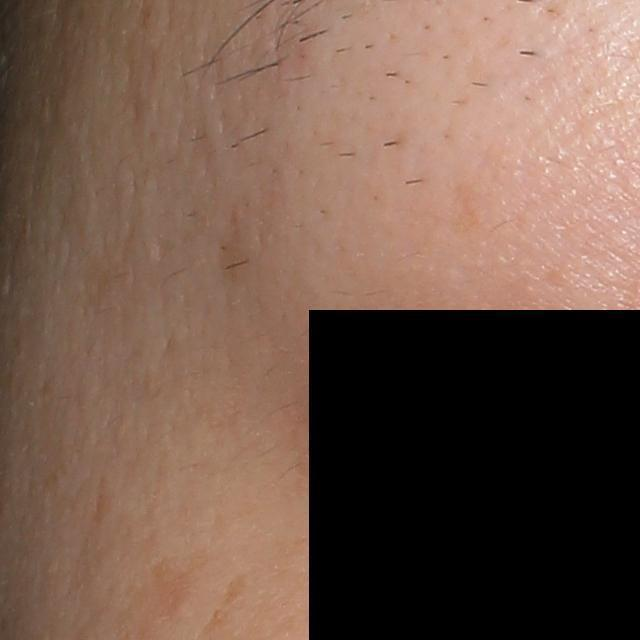melasma: (274, 564, 375, 637), (143, 548, 214, 631), (197, 567, 253, 638)
